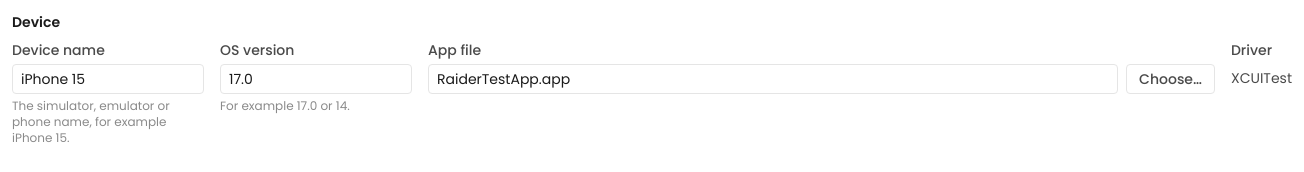
it: DeviceSettings, single platform › puts an emptied field back to the saved value without saving
Clear the field labelled "App file" at (773, 79), box [428, 64, 1118, 94]
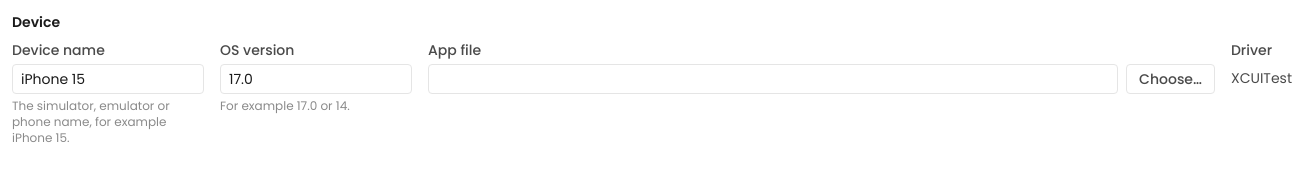
Leave the field labelled "App file", box [428, 64, 1118, 94]
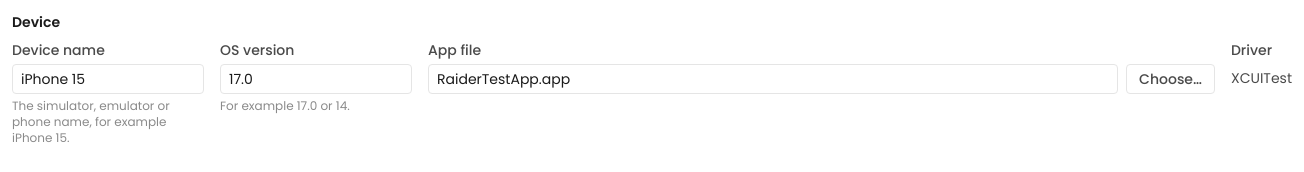
Now the field labelled "App file" holds "RaiderTestApp.app", box [428, 64, 1118, 94]
